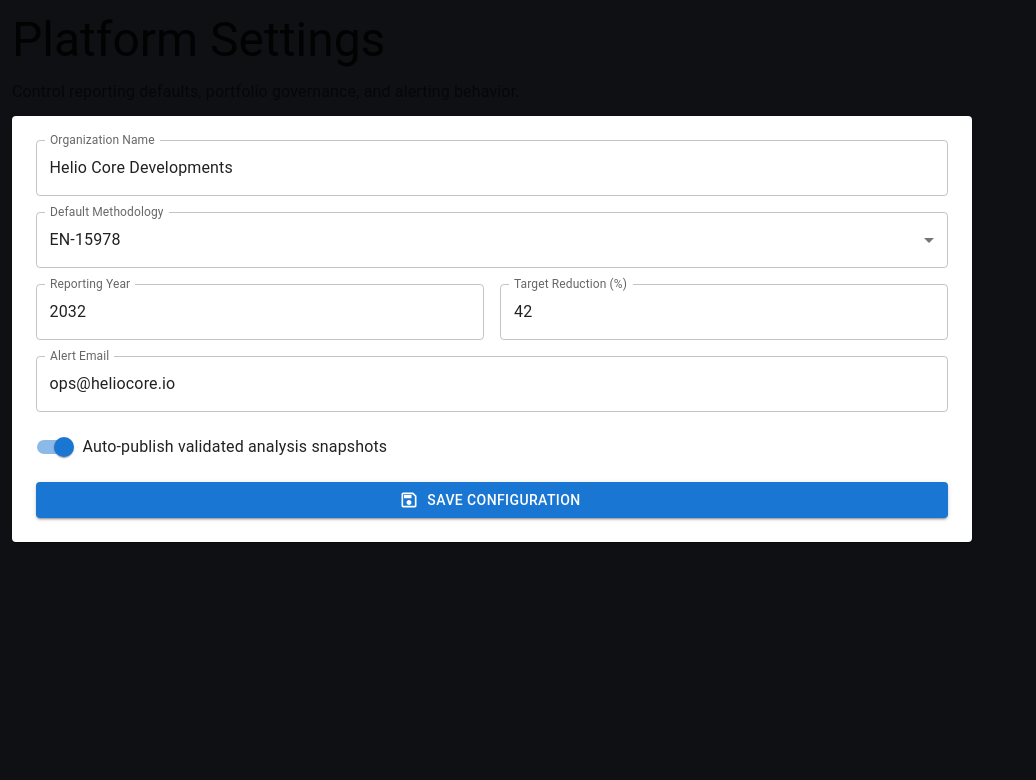
Test: SettingsPage › submits valid configuration and shows a success toast
The image size is (1036, 780).
Click the button "Save Configuration": (492, 500) [36,482,948,518]
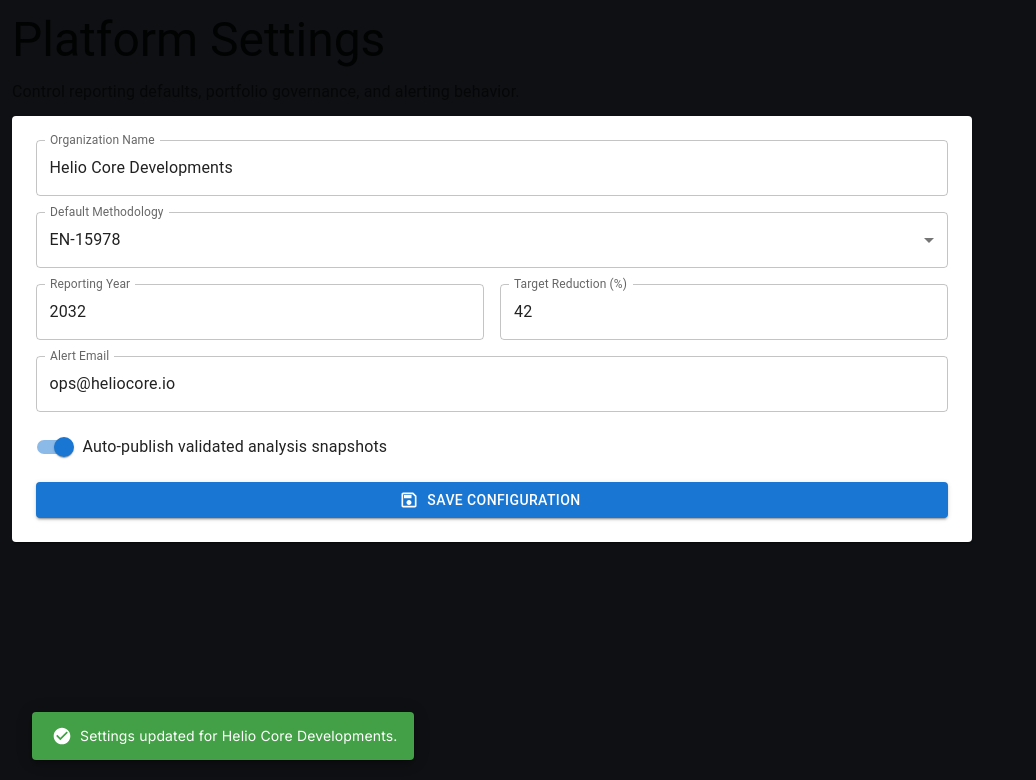
Now the text "Settings updated for Helio Core Developments." is shown, box [52,726,398,746]
